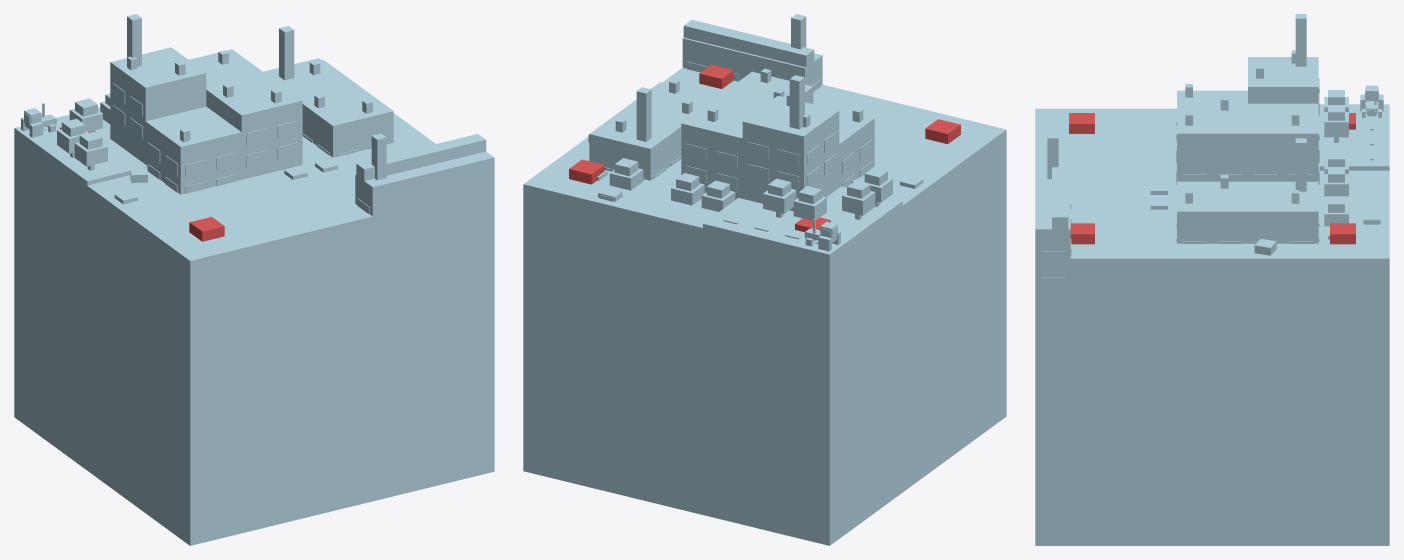
Rendered from block_11_sewersystem_100.glb.
The picture shows the model from 3 angles, left to right: view 1: azimuth 30°, elevation 25°; view 2: azimuth 150°, elevation 25°; view 3: azimuth 270°, elevation 25°; orthographic projection.
Visible parts, largest first — view 1: Patch_LowerLeft_b12_SL, Factories_LowerLeft_b12_SL, Ground_LowerLeft_b12_SL, Asset_Tree_Round.040_SL, Asset_Tractor.002_SL, Asset_Tree_Round.030_SL, Parking_LowerLeft_b12_SL, Asset_Tree_Round.038_SL, SL_Net_11; view 2: Patch_LowerLeft_b12_SL, Factories_LowerLeft_b12_SL, Roads_LowerLeft_b12_SL, Ground_LowerLeft_b12_SL, SL_Net_11, Asset_Tree_Round.038_SL, Asset_Tree_Round.031_SL, Asset_Tree_Round.030_SL, Asset_Tree_Round.034_SL, Asset_Tree_Round.033_SL, Asset_Tree_Round.032_SL, Asset_Tractor.002_SL (+1 smaller); view 3: Patch_LowerLeft_b12_SL, Factories_LowerLeft_b12_SL, Ground_LowerLeft_b12_SL, Roads_LowerLeft_b12_SL, SL_Net_11, Asset_Tree_Round.031_SL, Asset_Tree_Round.033_SL, Asset_Tractor.002_SL, Asset_Tree_Round.034_SL.
Boxes of the visible parts, x1,y1,x2,y2 form: Patch_LowerLeft_b12_SL: [14, 58, 494, 545]; Factories_LowerLeft_b12_SL: [110, 14, 494, 286]; Ground_LowerLeft_b12_SL: [32, 122, 372, 298]; Asset_Tree_Round.040_SL: [74, 131, 107, 170]; Asset_Tractor.002_SL: [21, 103, 56, 137]; Asset_Tree_Round.030_SL: [69, 98, 102, 131]; Parking_LowerLeft_b12_SL: [155, 298, 311, 329]; Asset_Tree_Round.038_SL: [57, 118, 88, 157]; SL_Net_11: [60, 127, 224, 241]; Patch_LowerLeft_b12_SL: [523, 67, 1006, 545]; Factories_LowerLeft_b12_SL: [589, 14, 874, 211]; Roads_LowerLeft_b12_SL: [523, 202, 971, 258]; Ground_LowerLeft_b12_SL: [721, 186, 953, 245]; SL_Net_11: [569, 64, 960, 231]; Asset_Tree_Round.038_SL: [842, 180, 875, 219]; Asset_Tree_Round.031_SL: [763, 178, 796, 217]; Asset_Tree_Round.030_SL: [793, 186, 826, 220]; Asset_Tree_Round.034_SL: [609, 158, 643, 190]; Asset_Tree_Round.033_SL: [671, 173, 704, 205]; Asset_Tree_Round.032_SL: [701, 180, 735, 211]; Asset_Tractor.002_SL: [804, 219, 840, 251]; Patch_LowerLeft_b12_SL: [1035, 108, 1389, 545]; Factories_LowerLeft_b12_SL: [1035, 14, 1319, 329]; Ground_LowerLeft_b12_SL: [1070, 104, 1354, 326]; Roads_LowerLeft_b12_SL: [1106, 104, 1389, 309]; SL_Net_11: [1069, 113, 1355, 244]; Asset_Tree_Round.031_SL: [1324, 105, 1348, 142]; Asset_Tree_Round.033_SL: [1324, 167, 1348, 196]; Asset_Tractor.002_SL: [1360, 85, 1383, 117]; Asset_Tree_Round.034_SL: [1324, 197, 1348, 226].
Bounding box in the file's own units: 9.52 × 12.34 × 9.5.
